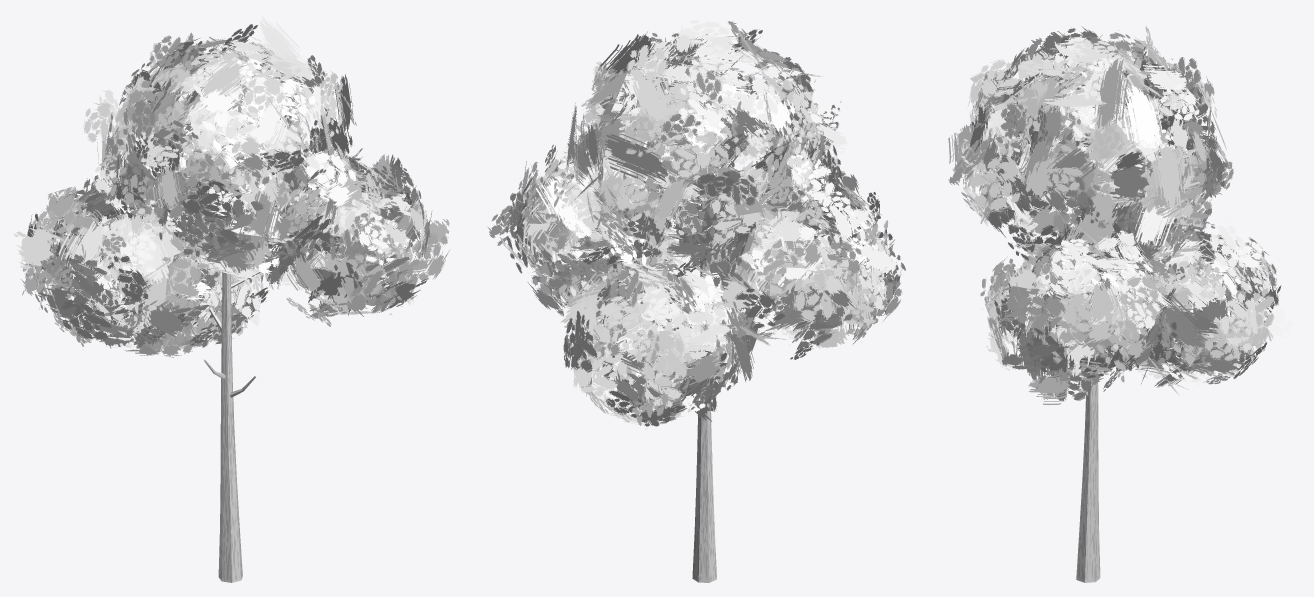
File: stylized_tree_seed7.fbx
3 views of the same model, side by side, from view 1: azimuth 30°, elevation 25°; view 2: azimuth 150°, elevation 25°; view 3: azimuth 270°, elevation 25° (orthographic).
Parts seen in each view (by area): view 1: StylizedTree_Leaves, StylizedTree_Trunk; view 2: StylizedTree_Leaves, StylizedTree_Trunk; view 3: StylizedTree_Leaves, StylizedTree_Trunk.
Part boxes in pixels (bbox=[...]): StylizedTree_Leaves: bbox=[14, 15, 450, 357]; StylizedTree_Trunk: bbox=[173, 135, 321, 582]; StylizedTree_Leaves: bbox=[487, 19, 905, 426]; StylizedTree_Trunk: bbox=[664, 189, 737, 582]; StylizedTree_Leaves: bbox=[948, 26, 1294, 405]; StylizedTree_Trunk: bbox=[1070, 150, 1186, 582].
Size of the model in its own units: 5.89 by 7.67 by 4.59.
Materials: 2 (2 with a texture image).
